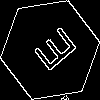E: (25, 25, 79, 80)
